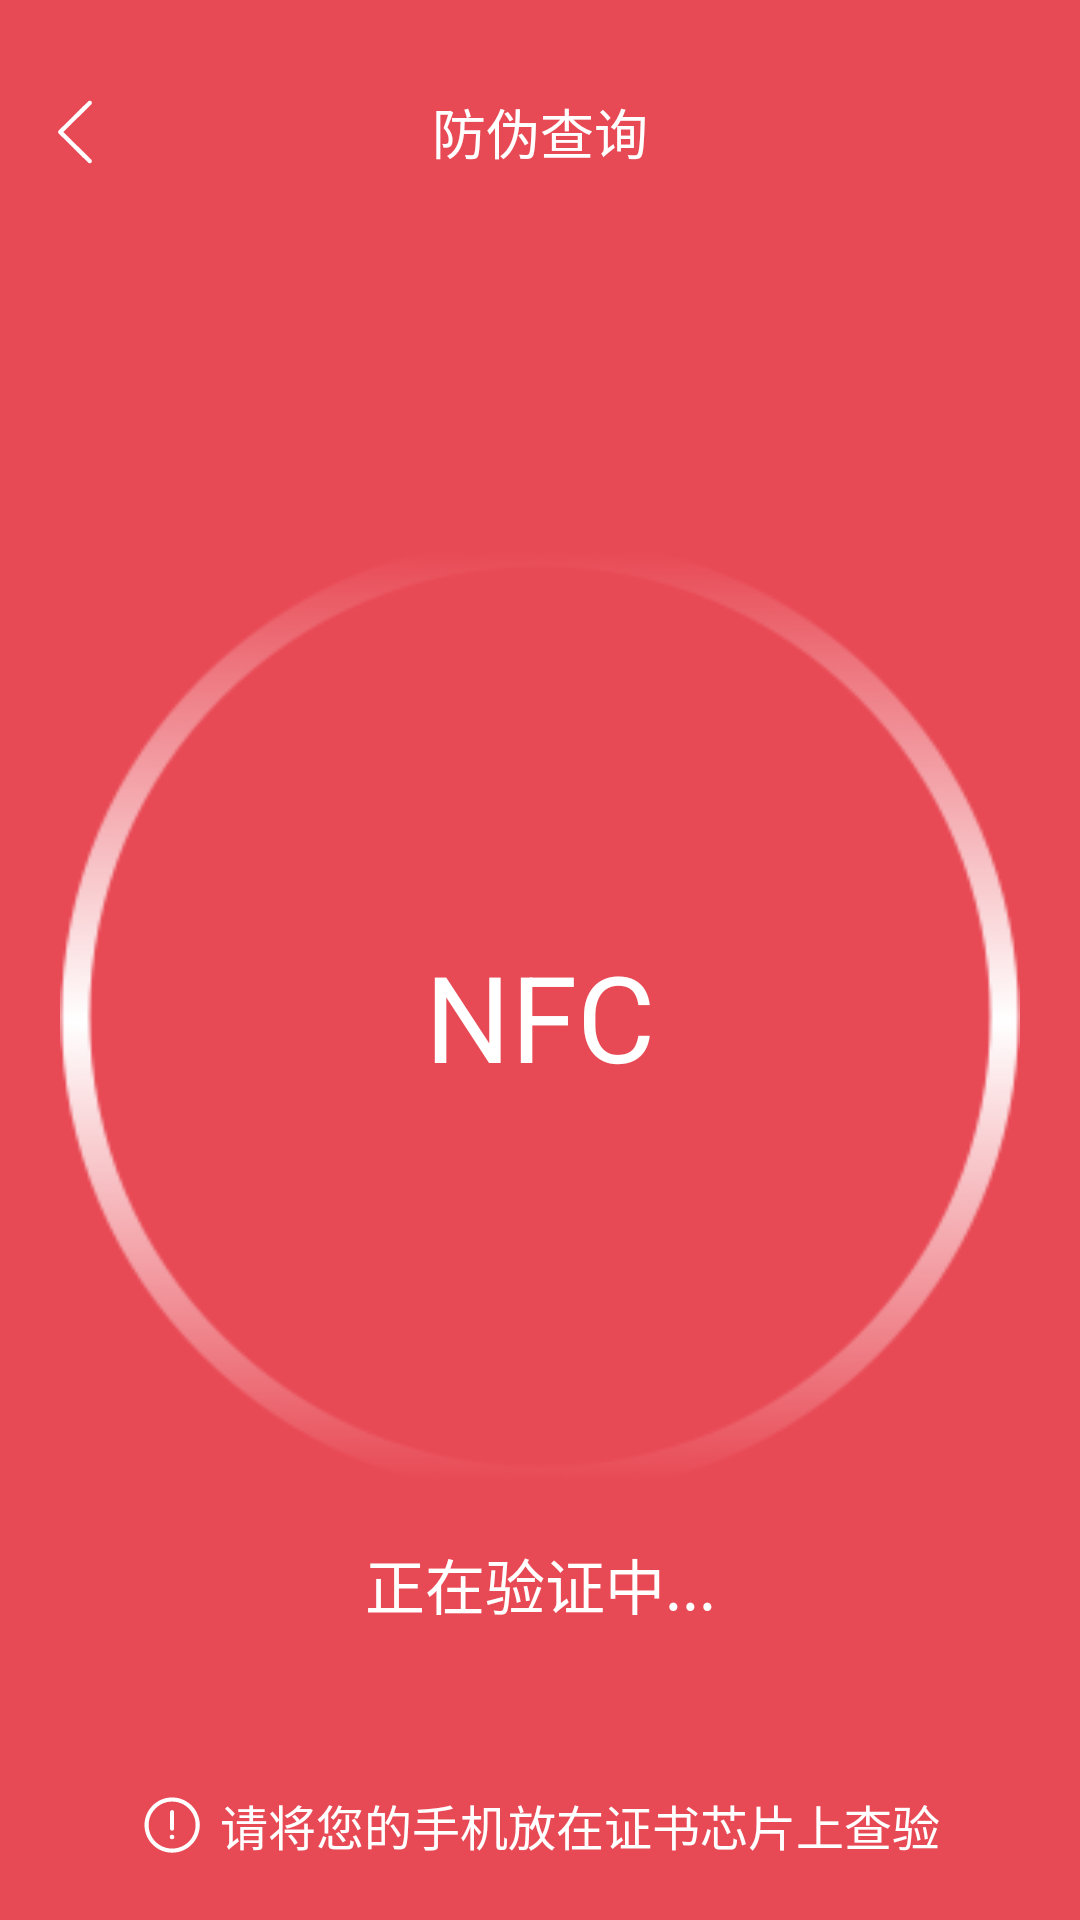

Named icons in this screenshot (1080px x 1920px) and their centers, point (x, y):
left arrow: point (75, 132)
